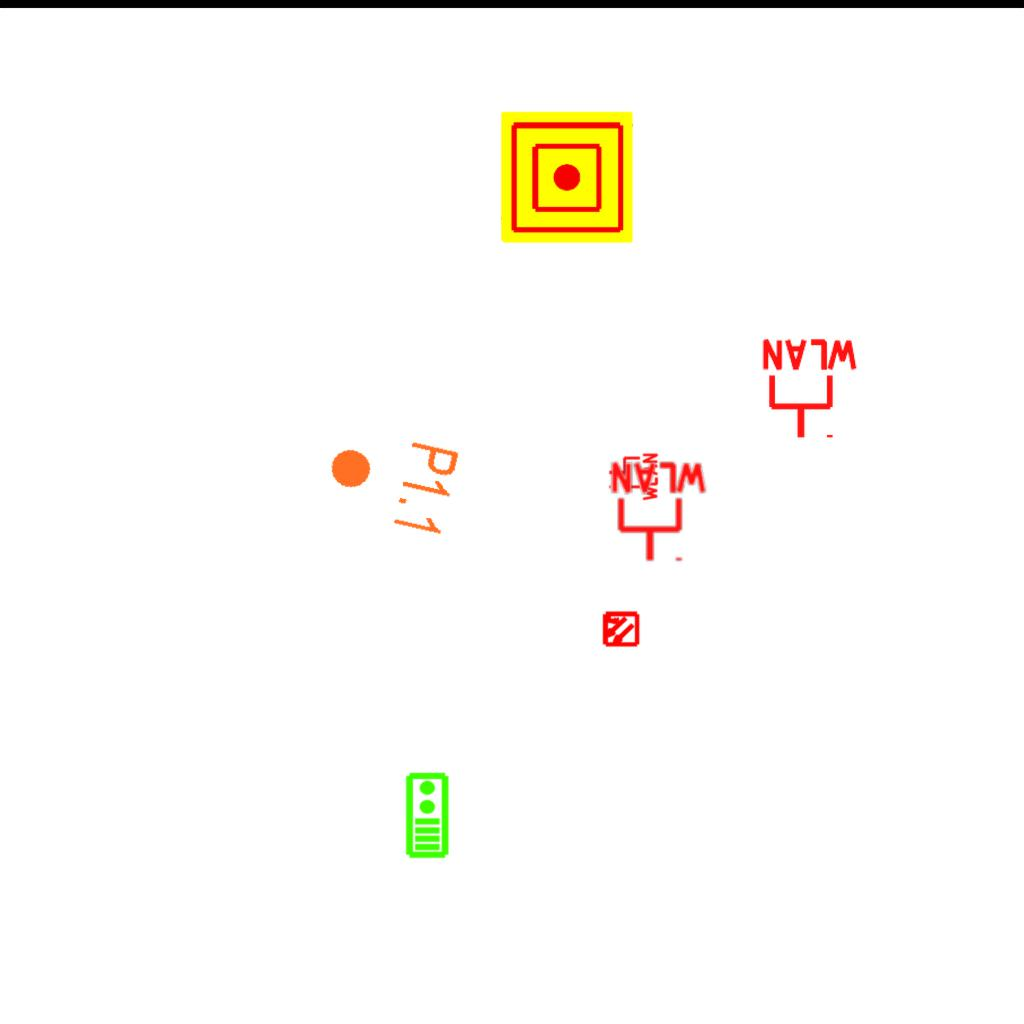Downlight_LED_Einbauleuchten_Flur: (317, 421, 464, 541)
Gegensprechanlage_mit_Video: (403, 771, 450, 859)
NAM-Nichtautomatischer_Melder: (501, 111, 633, 243)
OT_Multisensormelder_(Kombination_RMO_WMD): (592, 601, 648, 657)
WLAN: (758, 337, 862, 442), (607, 460, 711, 565), (607, 451, 659, 503)
